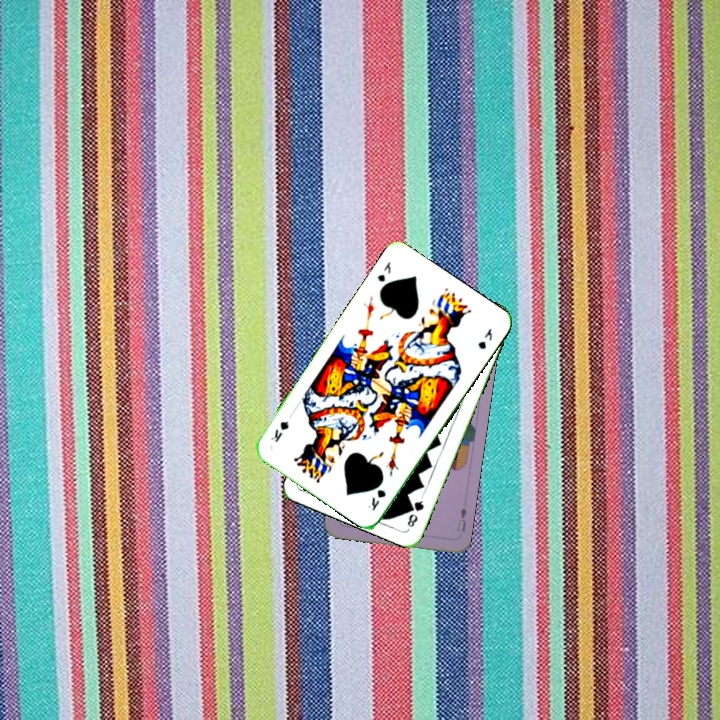EU: (453, 503, 469, 535)
G8: (403, 493, 427, 530)
GK: (364, 485, 389, 514), (373, 257, 394, 284)
